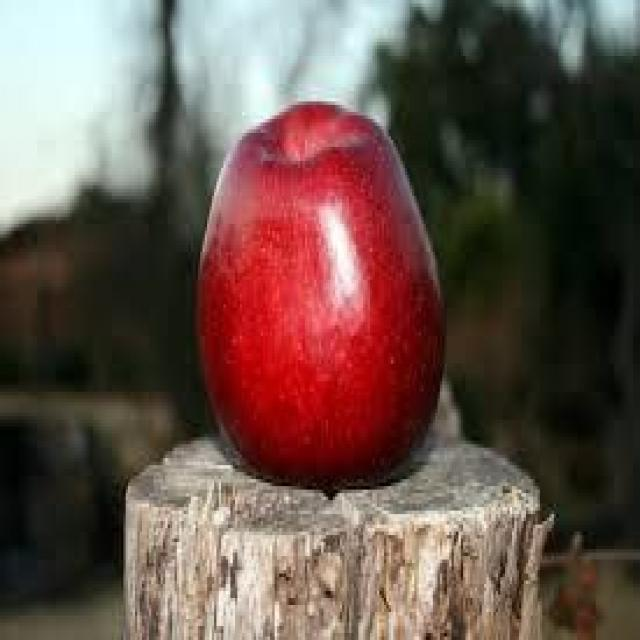Fresh Apple: (218, 117, 462, 490)
